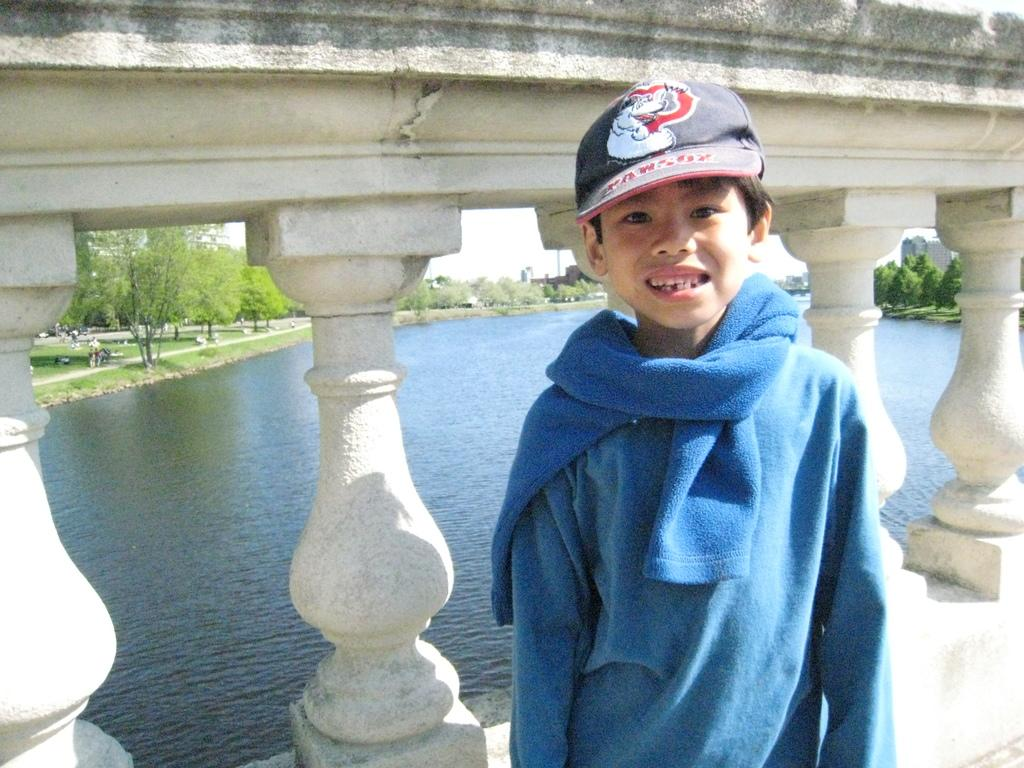Hat: (571, 82, 764, 225)
